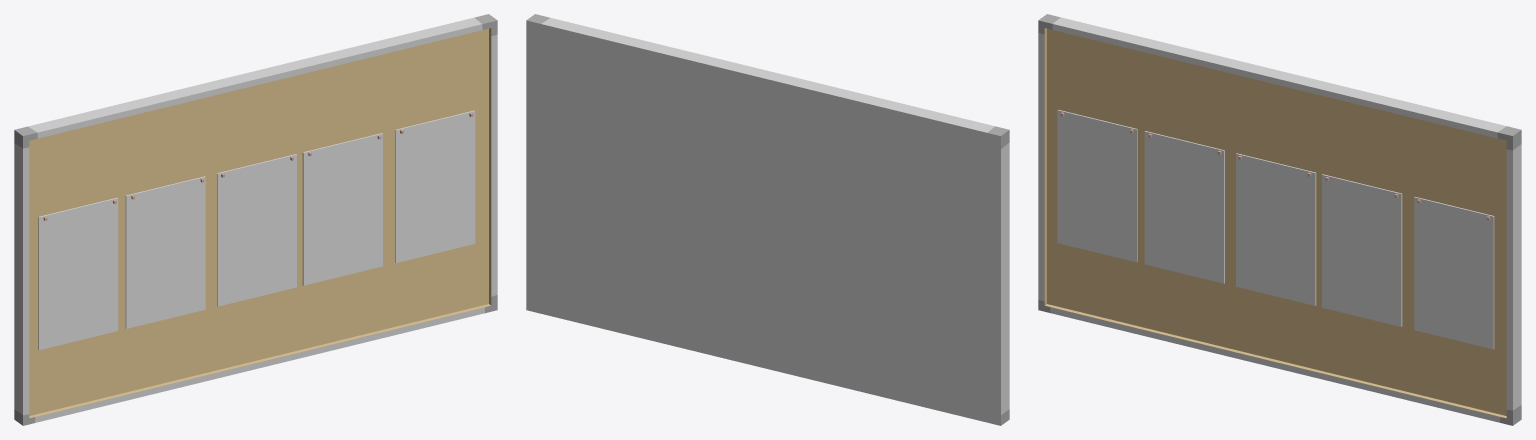
Rendered from board2_2.fbx.
3 views of the same model, side by side, from view 1: azimuth 30°, elevation 25°; view 2: azimuth 150°, elevation 25°; view 3: azimuth 330°, elevation 25° (orthographic).
Parts seen in each view (by area): view 1: Boole_1, Cube_5_2, Cube_5, Cube_5_3, Cube_5_2_2, Cube_5_1; view 2: Boole_1; view 3: Boole_1, Cube_5_3, Cube_5_2_2, Cube_5_1, Cube_5_2, Cube_5.
Part boxes in pixels (bbox=[...]): Boole_1: bbox=[14, 14, 497, 425]; Cube_5_2: bbox=[125, 176, 205, 328]; Cube_5: bbox=[302, 133, 382, 285]; Cube_5_3: bbox=[38, 197, 118, 350]; Cube_5_2_2: bbox=[395, 110, 475, 262]; Cube_5_1: bbox=[217, 154, 296, 306]; Boole_1: bbox=[526, 14, 1009, 425]; Boole_1: bbox=[1038, 14, 1521, 425]; Cube_5_3: bbox=[1057, 109, 1137, 262]; Cube_5_2_2: bbox=[1414, 197, 1494, 349]; Cube_5_1: bbox=[1236, 153, 1316, 305]; Cube_5_2: bbox=[1144, 131, 1224, 283]; Cube_5: bbox=[1322, 174, 1402, 326].
Bounding box in the file's own units: 200 × 117 × 6.41.
